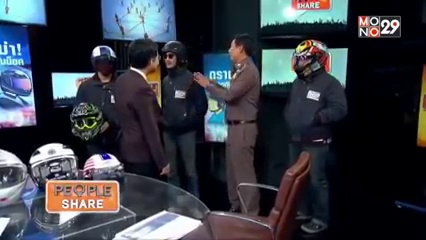helmet: (0, 145, 29, 205), (27, 141, 78, 175), (289, 33, 328, 73), (69, 102, 103, 137), (82, 151, 125, 178), (87, 40, 116, 73), (160, 36, 185, 69)
